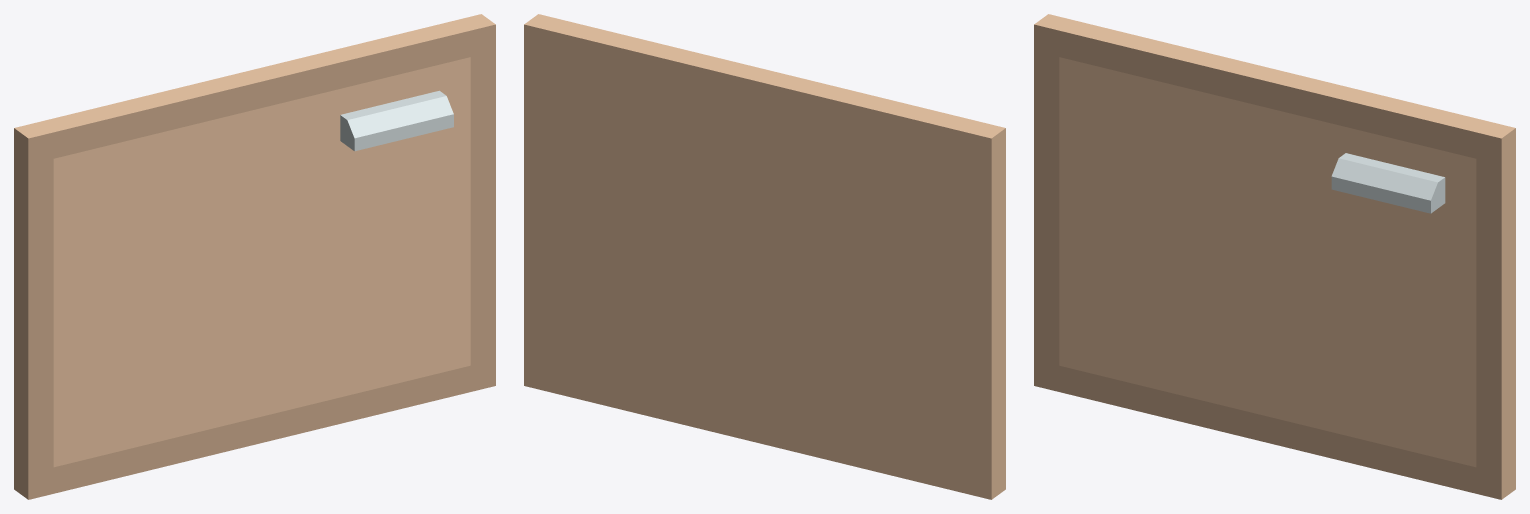
The model's file is Cupboard_Kitchen.glb.
3 renders of one model, left to right at view 1: azimuth 30°, elevation 25°; view 2: azimuth 150°, elevation 25°; view 3: azimuth 330°, elevation 25°, orthographic.
Parts seen in each view (by area): view 1: Cupboard_Kitchen; view 2: Cupboard_Kitchen; view 3: Cupboard_Kitchen.
Boxes of the visible parts, bbox=[...] form: Cupboard_Kitchen: bbox=[14, 14, 495, 499]; Cupboard_Kitchen: bbox=[524, 14, 1005, 499]; Cupboard_Kitchen: bbox=[1034, 14, 1515, 499].
Size of the model in its own units: 0.3763 by 0.2781 by 0.04.
